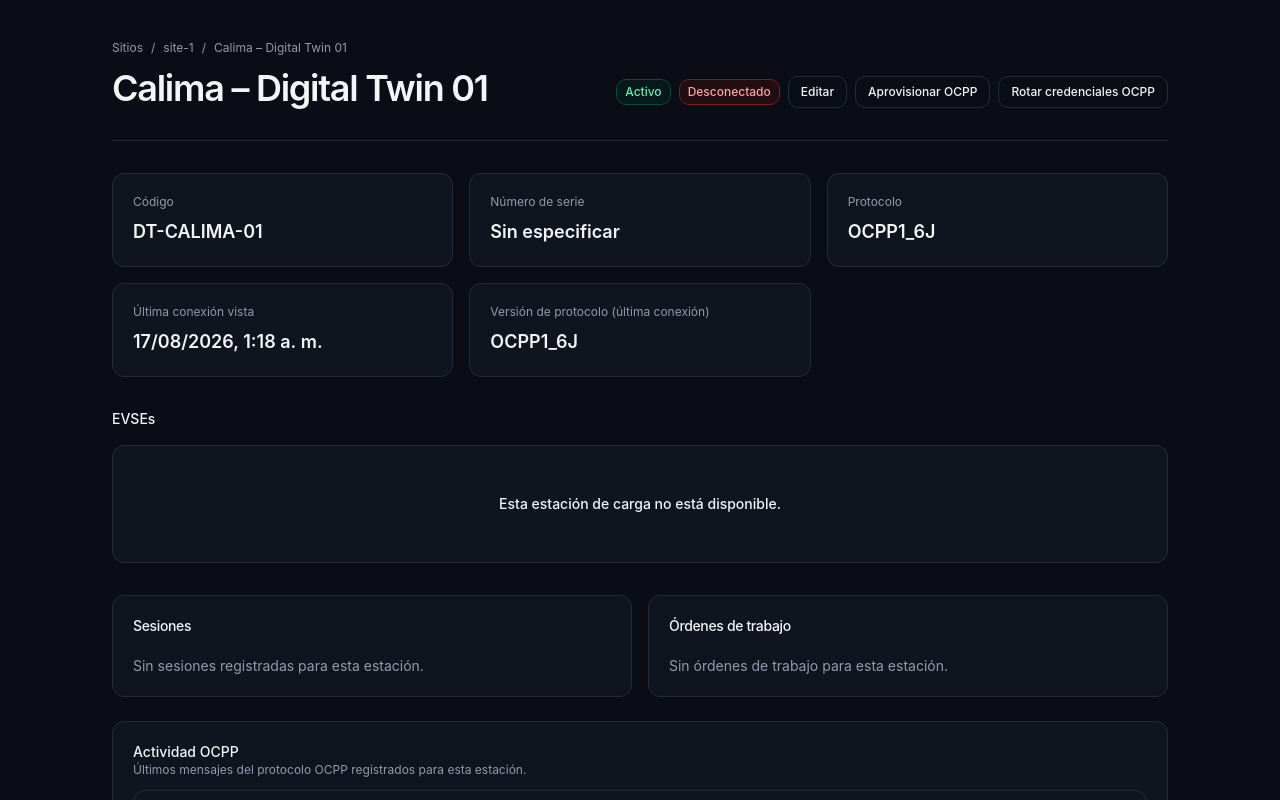
Test: ChargingStationDetailPage — credential rotation flow › does not allow a double submit while the request is in flight
Click the button "Rotar credenciales OCPP" at (1083, 92), box x1=998 y1=76 x2=1168 y2=108
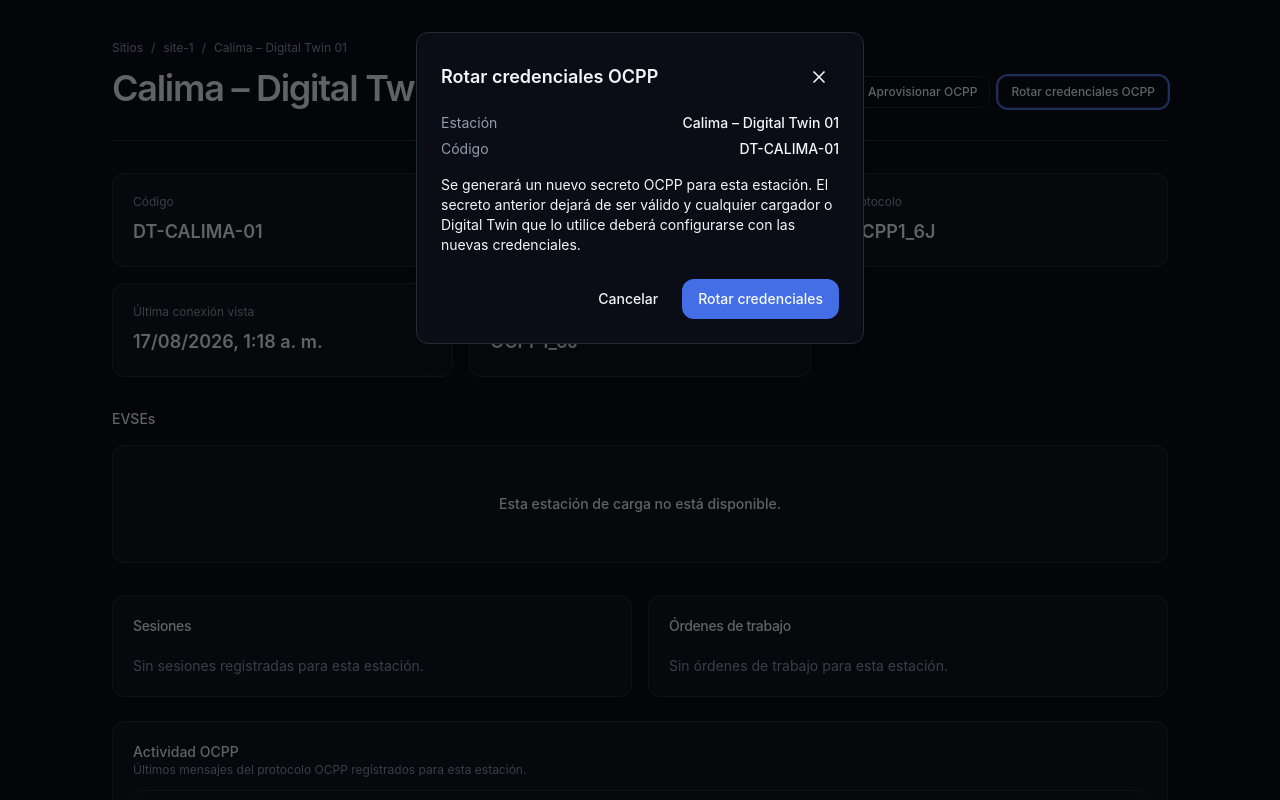
Click the button "Rotar credenciales" at (761, 299), box x1=682 y1=279 x2=839 y2=319
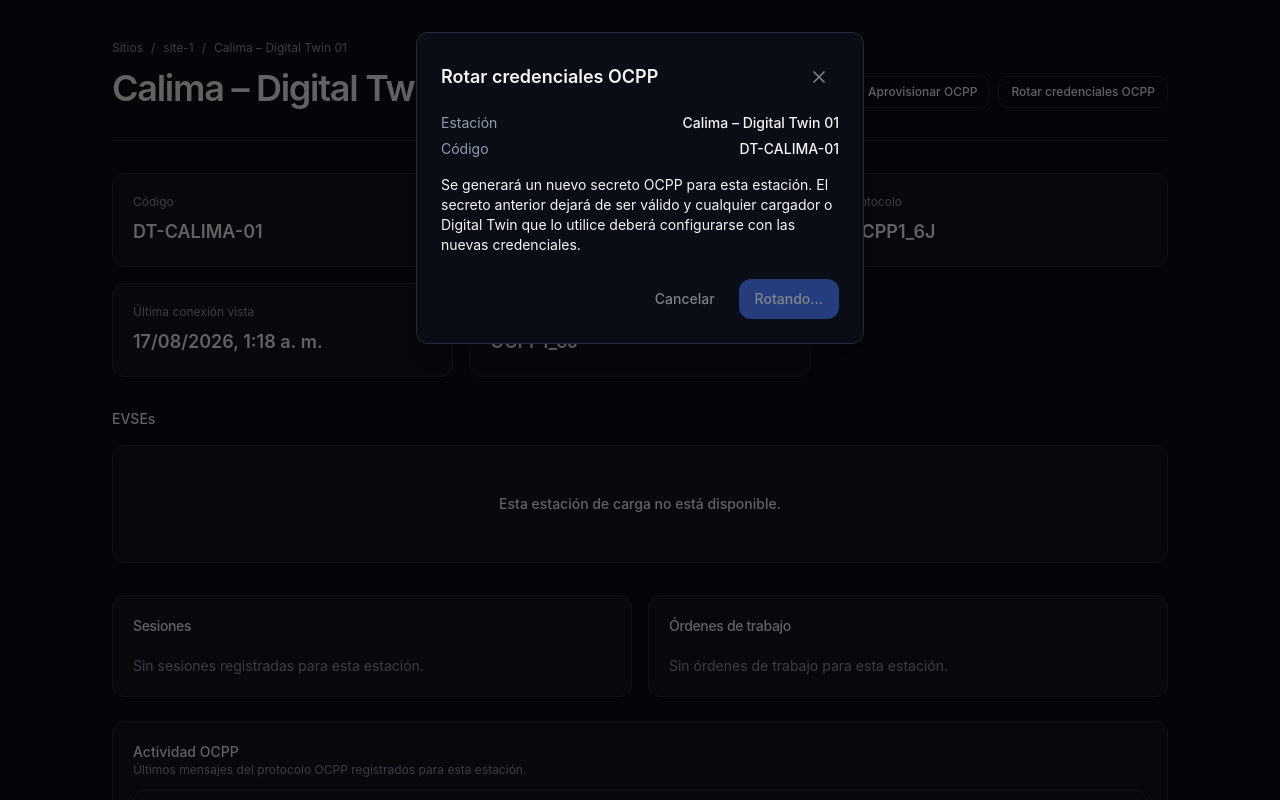
Click the button "Rotando…" at (789, 299), box x1=739 y1=279 x2=839 y2=319
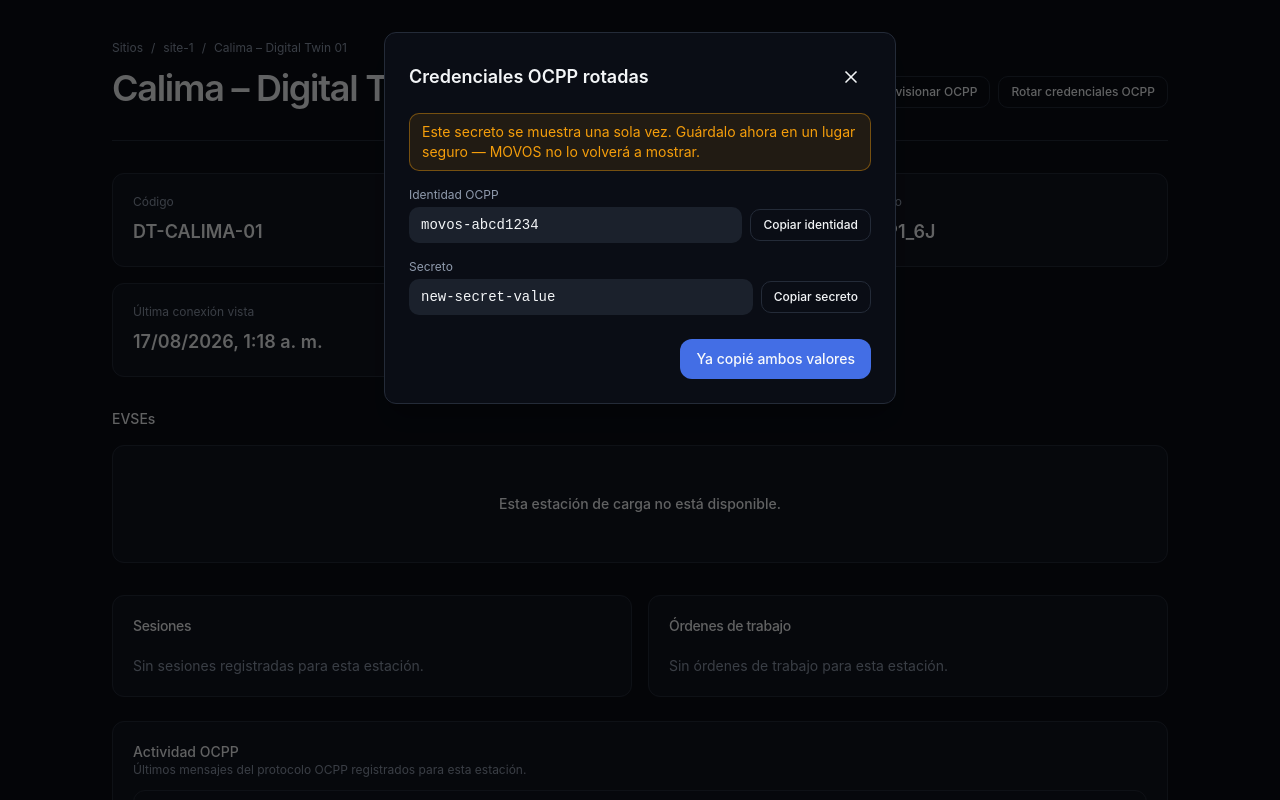
Result: the dialog "Credenciales OCPP rotadas" is shown
